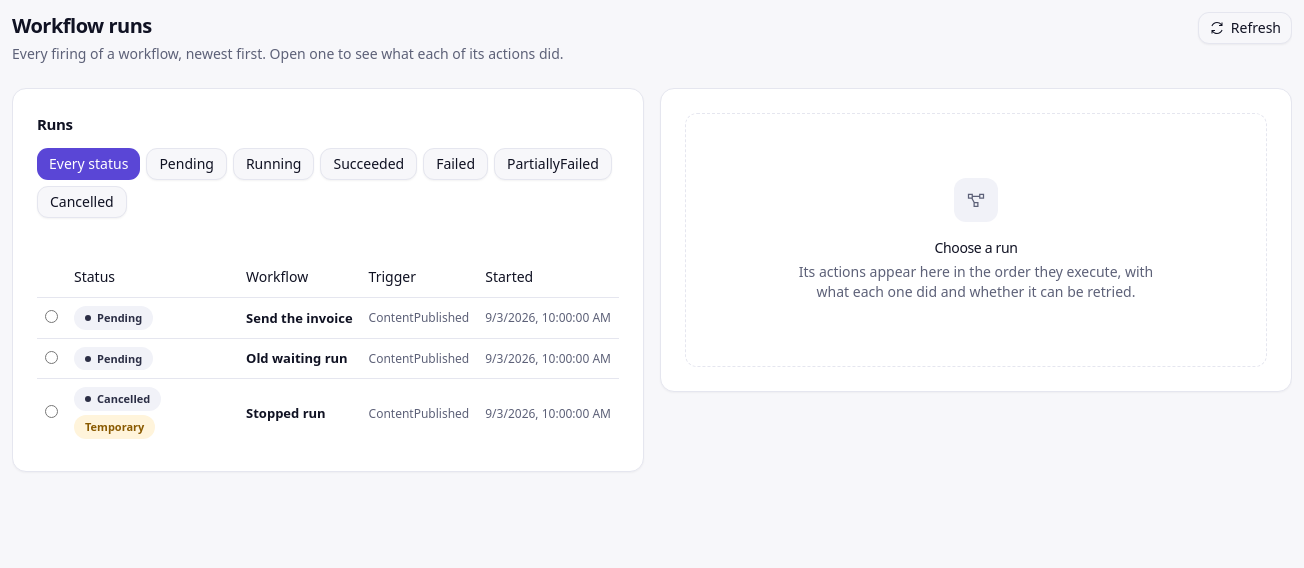
cancelling a run › offers neither cancel nor retry on a stopped run
Click the radio button named "Stopped run" at [52, 412], box [45,405,58,418]
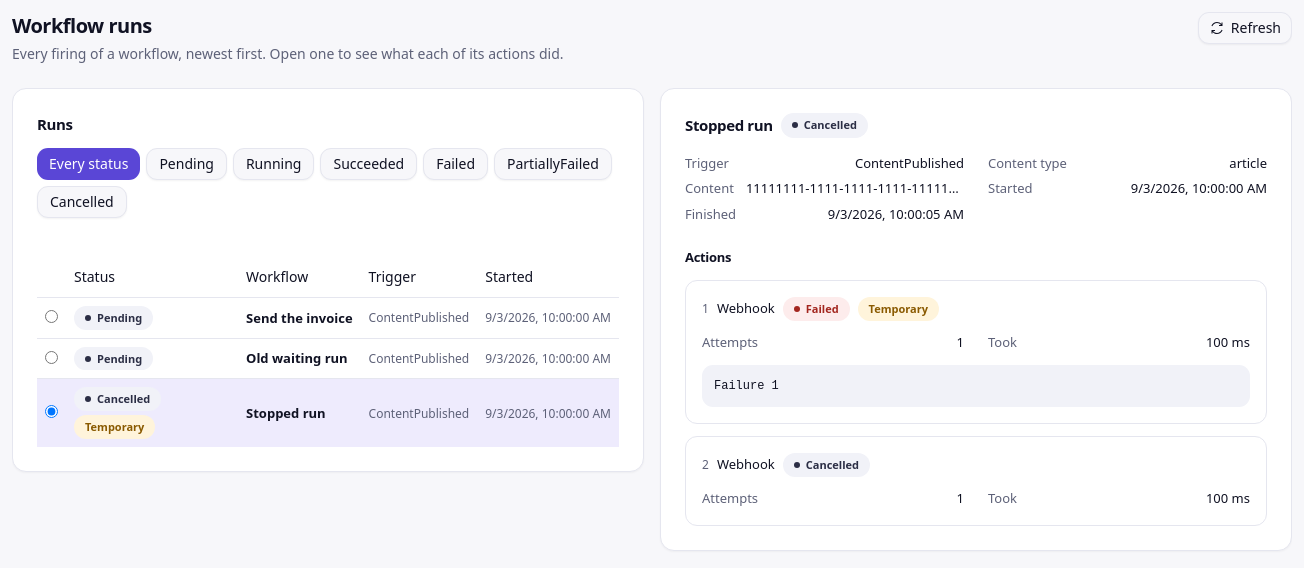
Expected: the number of list items is 2, [685,280,1267,424]; [685,436,1267,526]
